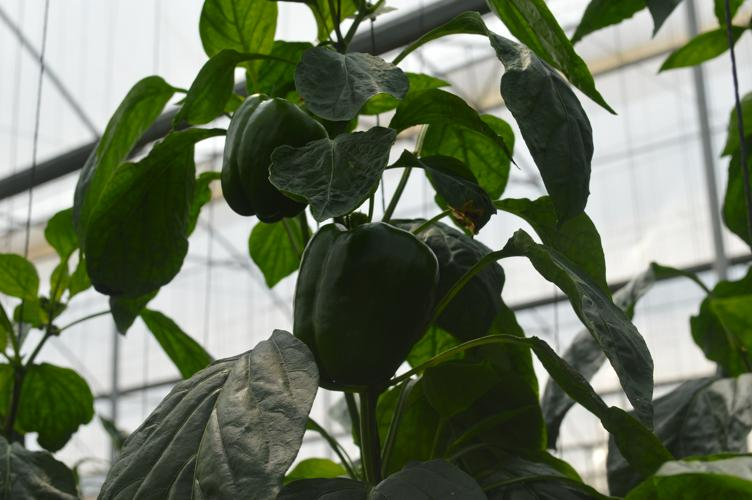BellPepper: (291, 219, 445, 397), (221, 94, 334, 219)
